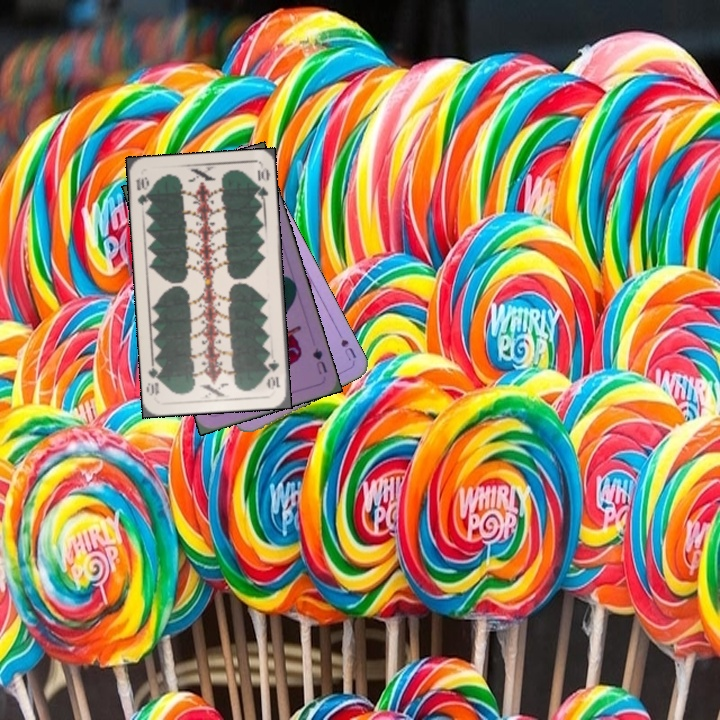G10: (132, 173, 152, 208), (264, 356, 283, 392)
GU: (308, 344, 330, 377)
SU: (332, 325, 359, 363)
